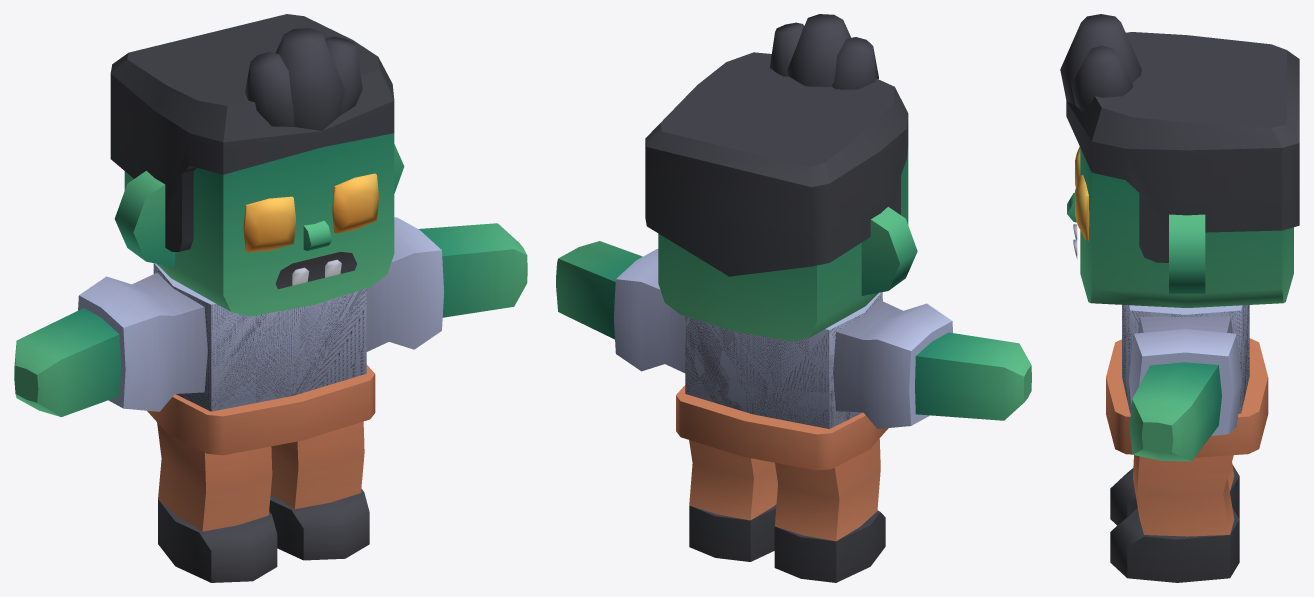
The model's file is zombie.glb.
The picture shows the model from 3 angles, left to right: view 1: azimuth 30°, elevation 25°; view 2: azimuth 150°, elevation 25°; view 3: azimuth 270°, elevation 25°; orthographic projection. The views are drawn at different scales.
Parts seen in each view (by area): view 1: head, leg-left (×2), torso, arm-right, arm-left; view 2: head, torso, leg-left (×2), arm-right, arm-left; view 3: head, leg-left (×2), arm-left, torso.
Boxes of the visible parts, bbox=[...] form: head: bbox=[110, 14, 404, 316]; leg-left (×2): bbox=[157, 421, 369, 582]; torso: bbox=[147, 263, 375, 455]; arm-right: bbox=[14, 272, 207, 416]; arm-left: bbox=[366, 217, 527, 351]; head: bbox=[645, 14, 917, 341]; torso: bbox=[676, 292, 888, 470]; leg-left (×2): bbox=[689, 439, 885, 582]; arm-right: bbox=[833, 300, 1031, 428]; arm-left: bbox=[556, 241, 685, 372]; head: bbox=[1060, 14, 1299, 307]; leg-left (×2): bbox=[1110, 455, 1239, 582]; arm-left: bbox=[1129, 316, 1241, 461]; torso: bbox=[1106, 305, 1268, 457].
Size of the model in its own units: 0.8114 by 0.8251 by 0.3455.
Materials: 1 (1 with a texture image).
